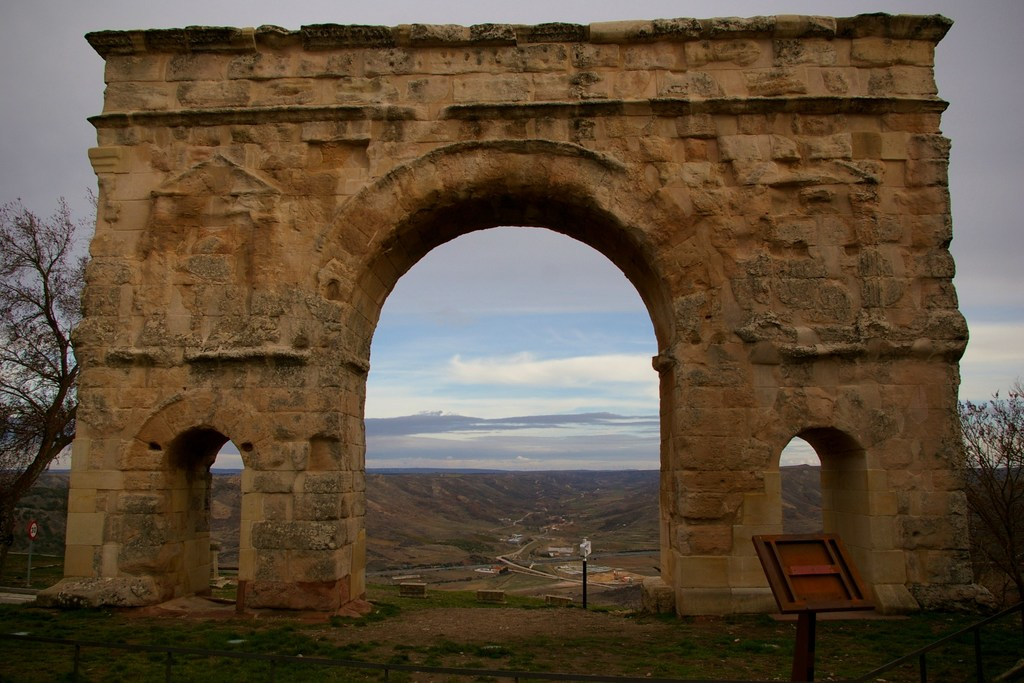Tree: (0, 186, 99, 570), (957, 373, 1024, 601)
